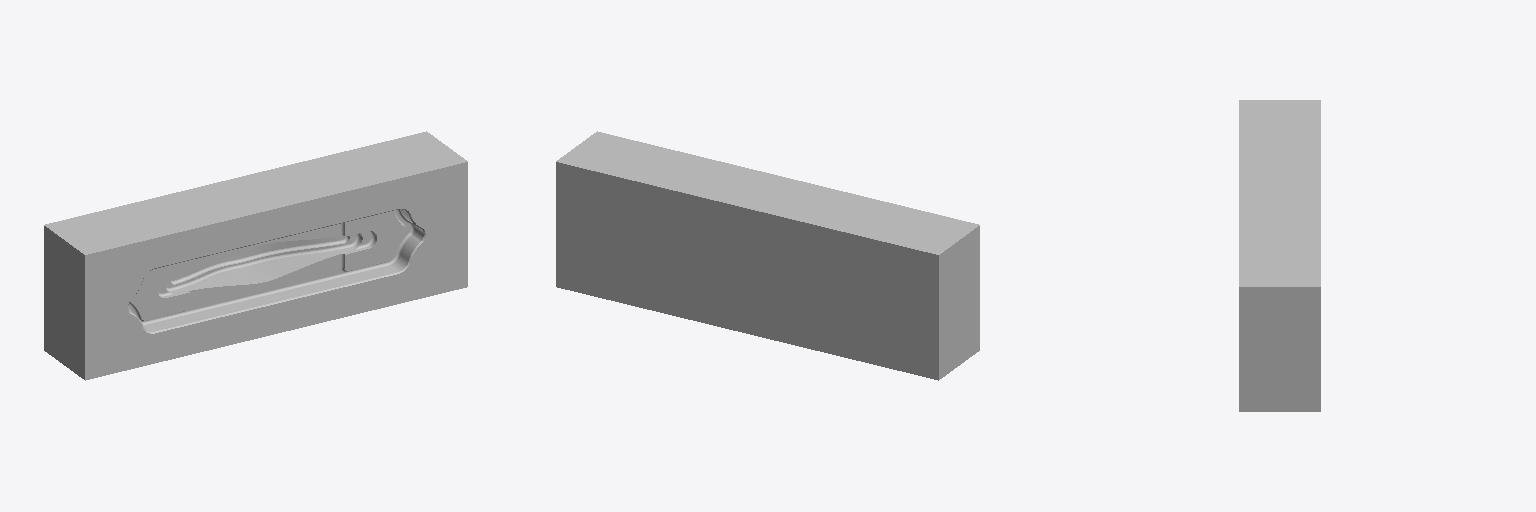
File: MANIJA_CAVITY_ROTATE.obj
3 renders of one model, left to right at view 1: azimuth 30°, elevation 25°; view 2: azimuth 150°, elevation 25°; view 3: azimuth 270°, elevation 25°, orthographic.
Visible parts, largest first — view 1: obj1; view 2: obj1; view 3: obj1.
Part boxes in pixels (left/top/right/bottom): obj1: left=44, top=131, right=467, bottom=380; obj1: left=556, top=131, right=979, bottom=380; obj1: left=1239, top=100, right=1320, bottom=411.
Size of the model in its own units: 160 by 50 by 30.